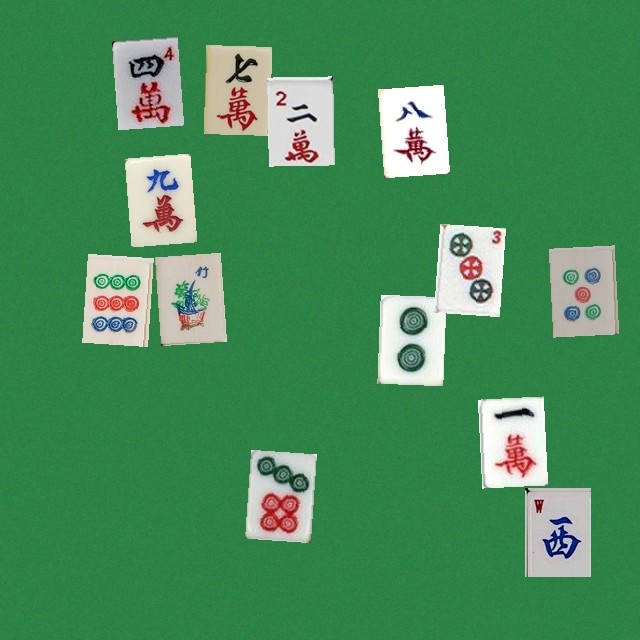tile: (477, 396, 543, 485), (82, 253, 148, 342), (377, 84, 443, 173), (377, 294, 443, 383), (203, 45, 269, 134), (433, 223, 499, 312), (111, 36, 177, 125), (245, 449, 311, 538), (267, 76, 333, 165), (154, 252, 220, 341), (524, 487, 590, 576), (124, 153, 190, 242), (548, 245, 614, 334)
